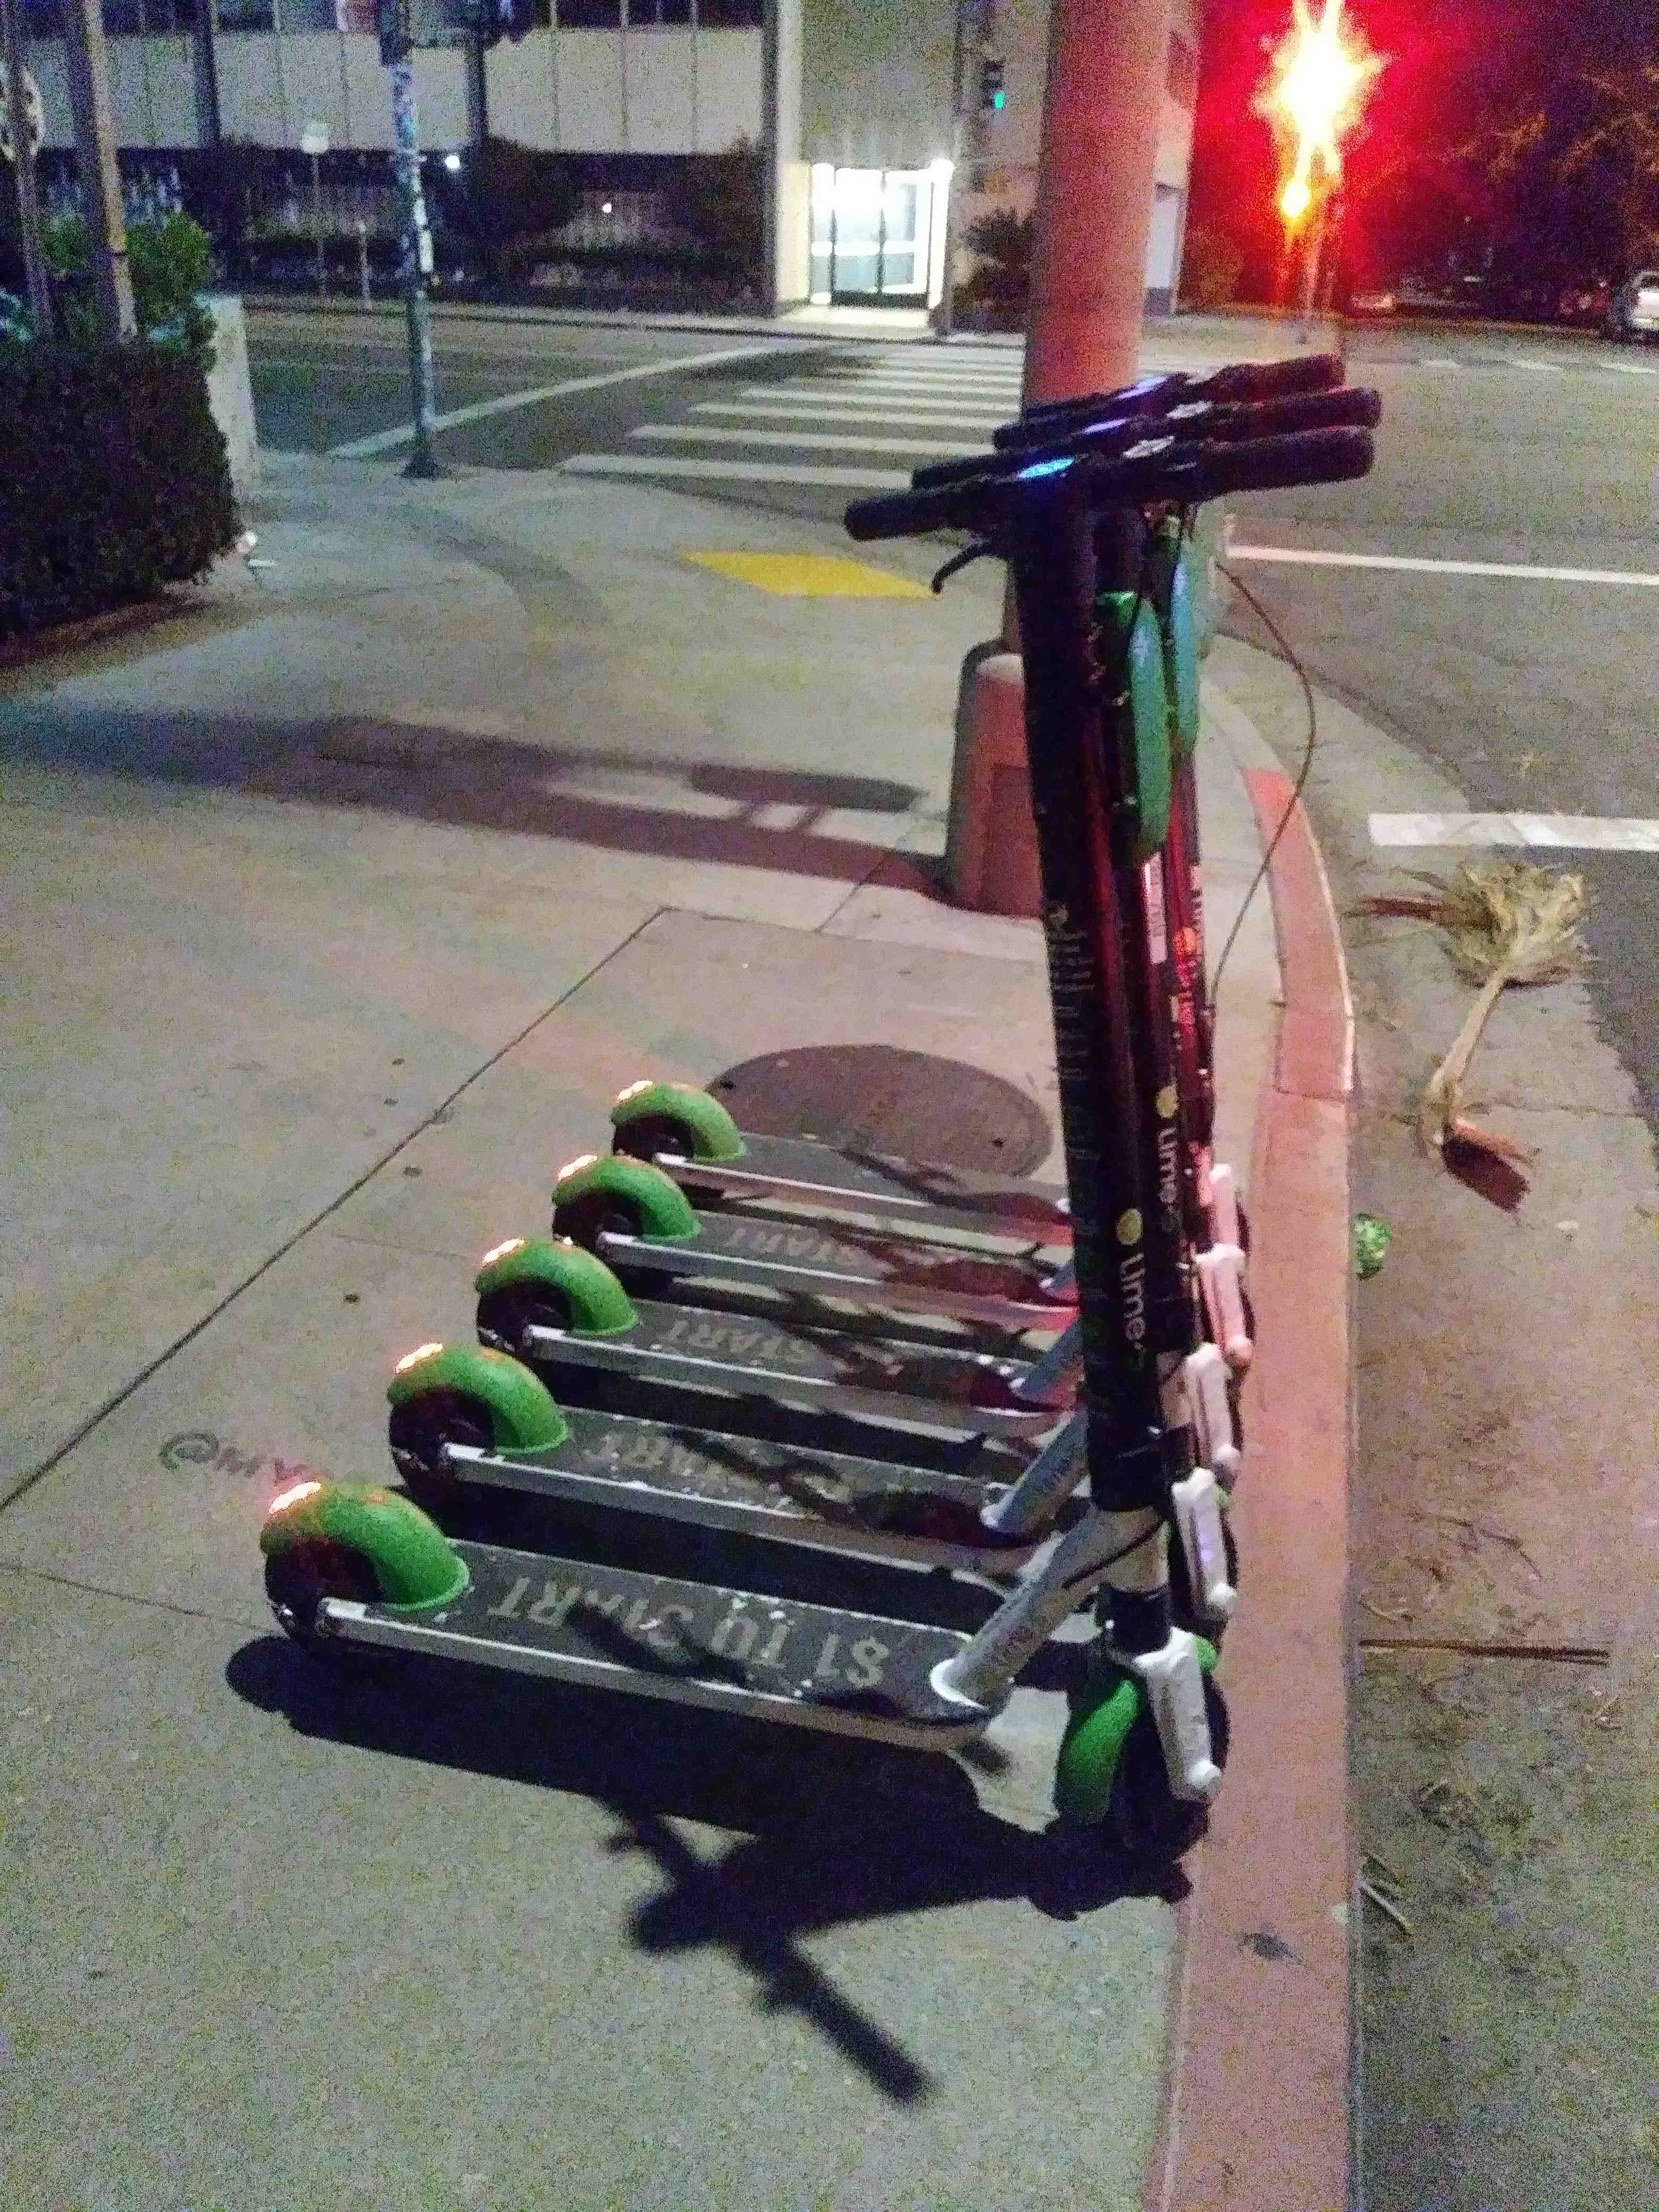too close: (1037, 1608, 1387, 1907)
